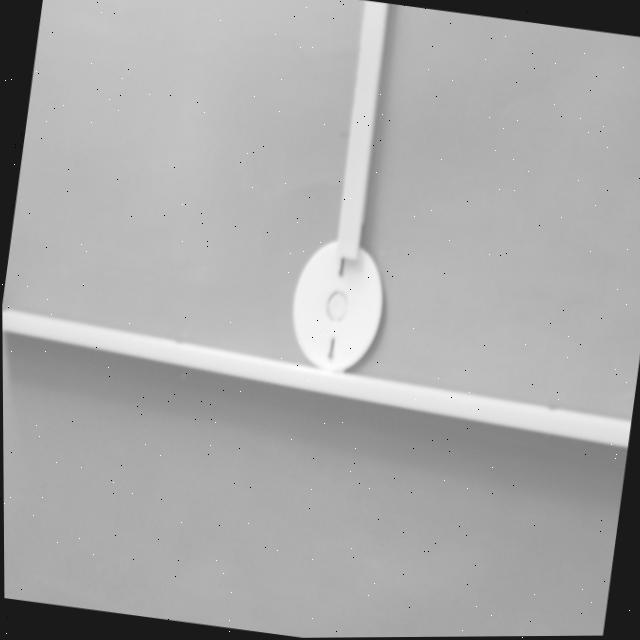light_off: (2, 285, 638, 483)
